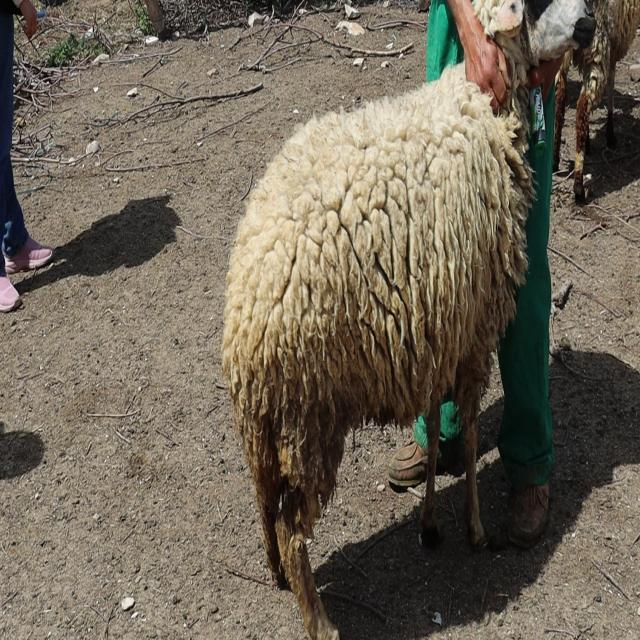Score_2: (222, 0, 596, 639)
